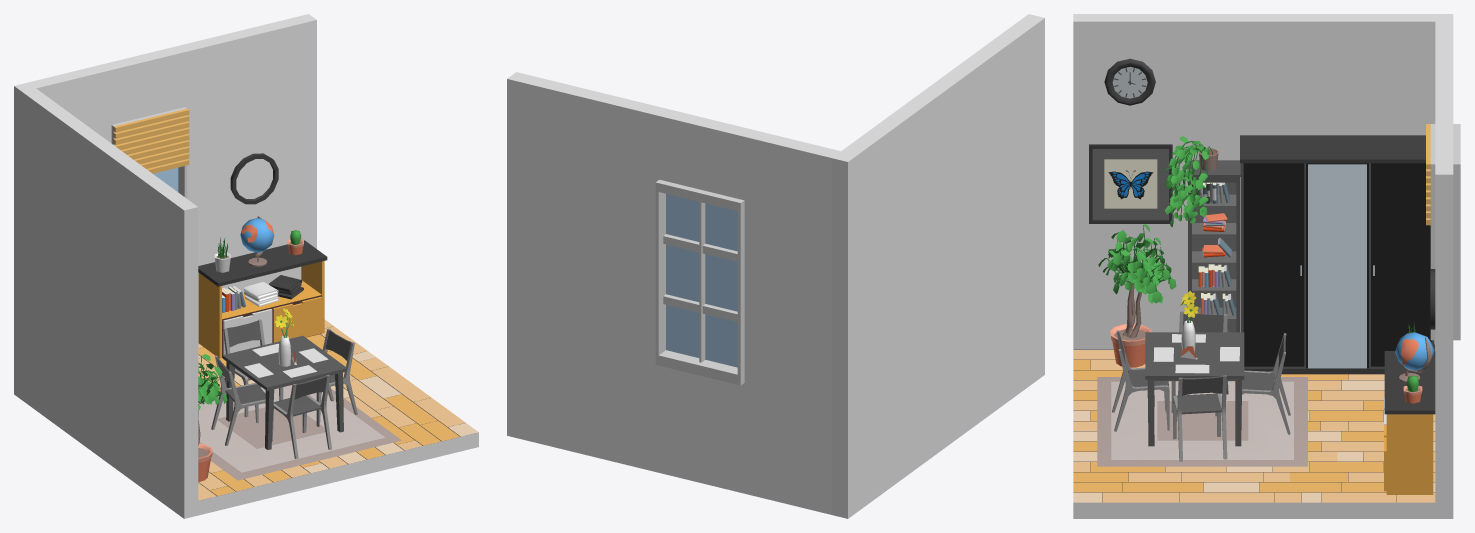
File: room_25.glb
3 renders of one model, left to right at view 1: azimuth 30°, elevation 25°; view 2: azimuth 150°, elevation 25°; view 3: azimuth 270°, elevation 25°, orthographic. The views are drawn at different scales.
Visible parts, largest first — view 1: Walls_006.075, Walls_006.076, floor_015.001, carpet_003.002, shelf_034.001, Walls_011.015, Walls_006.078, window_030.001, kitchen_table_015.001, Walls_006.074, picture_062.001, kitchen_chair_008.004 (+8 smaller); view 2: Walls_006.075, Walls_006.076, Walls_006.074, window_030.001, Walls_006.077, Walls_006.078; view 3: Walls_006.075, closet_028.001, floor_015.001, carpet_003.002, Walls_011.015, Walls_006.076, picture_052.002, shelf_034.001, shelf_026.001, flower_009.001, kitchen_table_015.001, window_030.001 (+12 smaller).
Boxes of the visible parts, x1,y1,x2,y2 form: Walls_006.075: (14,82,198,518); Walls_006.076: (176,14,316,342); floor_015.001: (198,319,478,500); carpet_003.002: (198,385,401,480); shelf_034.001: (198,240,327,358); Walls_011.015: (198,326,478,515); Walls_006.078: (105,46,183,124); window_030.001: (111,107,189,198); kitchen_table_015.001: (222,335,347,449); Walls_006.074: (28,64,113,143); picture_062.001: (230,153,278,204); kitchen_chair_008.004: (272,374,331,458); Walls_006.075: (831,14,1044,518); Walls_006.076: (507,72,669,473); Walls_006.074: (742,129,840,514); window_030.001: (655,179,744,385); Walls_006.077: (661,366,742,492); Walls_006.078: (661,109,751,199); Walls_006.075: (1073,14,1453,349); closet_028.001: (1240,135,1434,374); floor_015.001: (1073,350,1435,502); carpet_003.002: (1097,377,1307,466); Walls_011.015: (1073,349,1435,518); Walls_006.076: (1435,102,1453,518); picture_052.002: (1089,144,1172,223); shelf_034.001: (1384,351,1435,494); shelf_026.001: (1187,160,1240,332); flower_009.001: (1098,224,1176,367); kitchen_table_015.001: (1145,332,1244,446); window_030.001: (1426,124,1460,340).
Bounding box in the file's own units: 4.2 × 4.2 × 4.28.
Materials: 1 (1 with a texture image).
